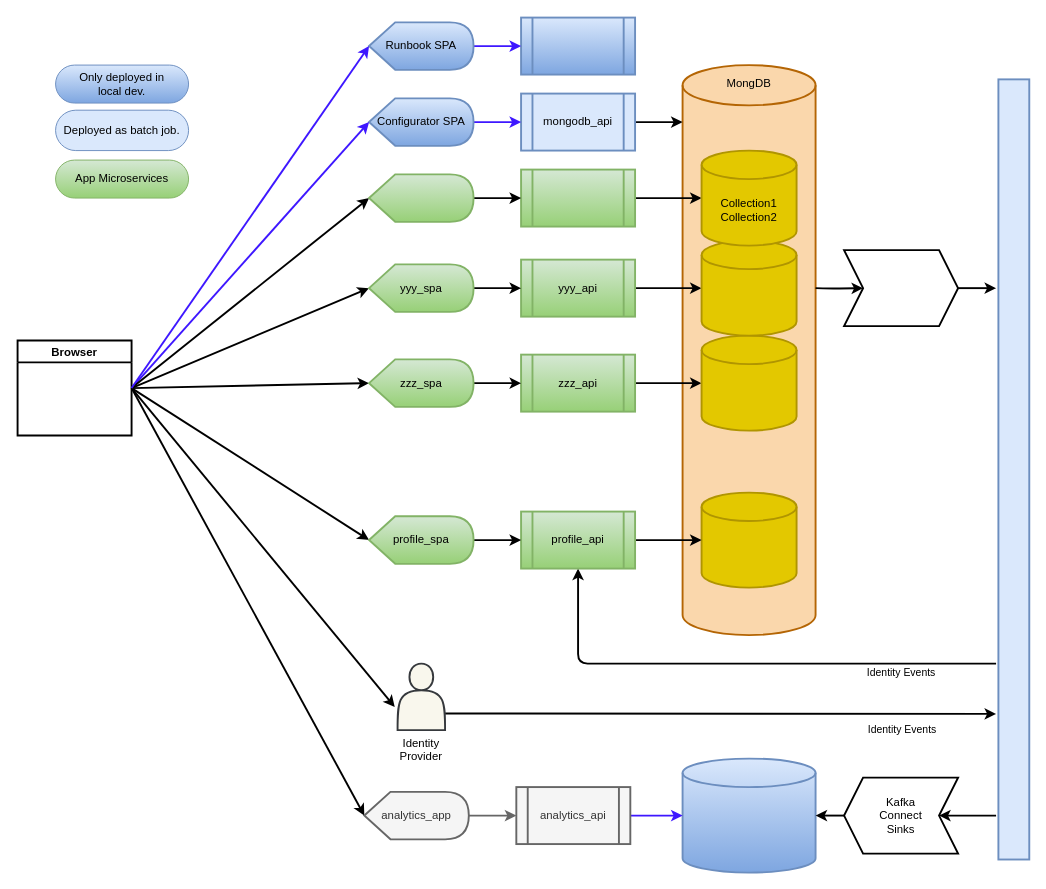
Some shapes in this 1046 by 889 pixel diagram are drawn without their labels. Each missing label, with the centre of its shape:
Collection3 Collection4: point 748,287
Collection5 Collection6: point 748,382
Data Lake: point 748,815
Kafka Connect Sources: point 901,288
KafkaService Bus: point 1013,469
Profile Identity Logins: point 748,539
runbook_api: point 578,45
xxx_api: point 578,197
xxx_spa: point 421,197
